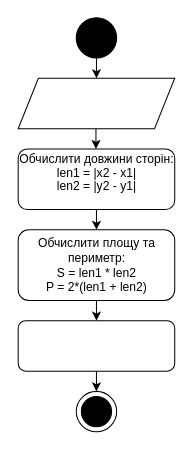
Image size: 192x449. Some labels were removed from this diagram. Each missing label, with the centre of its shape:
"Вивести на екран значення S та P" belongs at point (96, 345).
"Отримати аргументи: x1, y1, x2, y2" belongs at point (96, 103).
